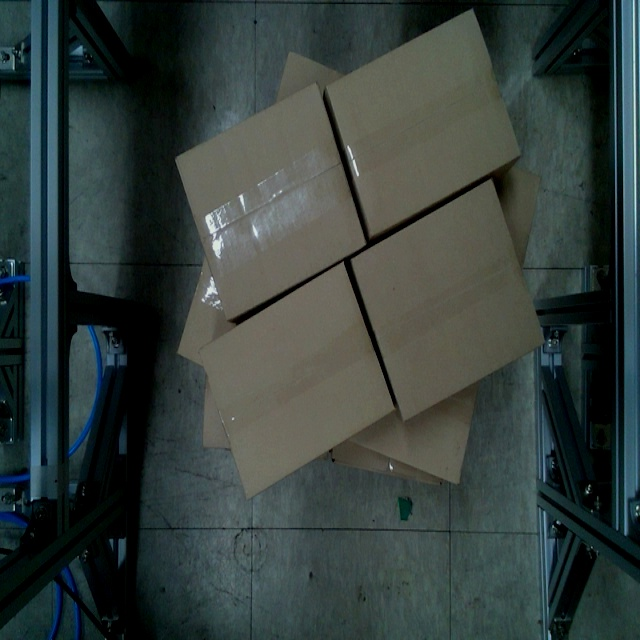box: (346, 176, 548, 428), (195, 257, 398, 507), (172, 76, 369, 325), (322, 9, 522, 243)
